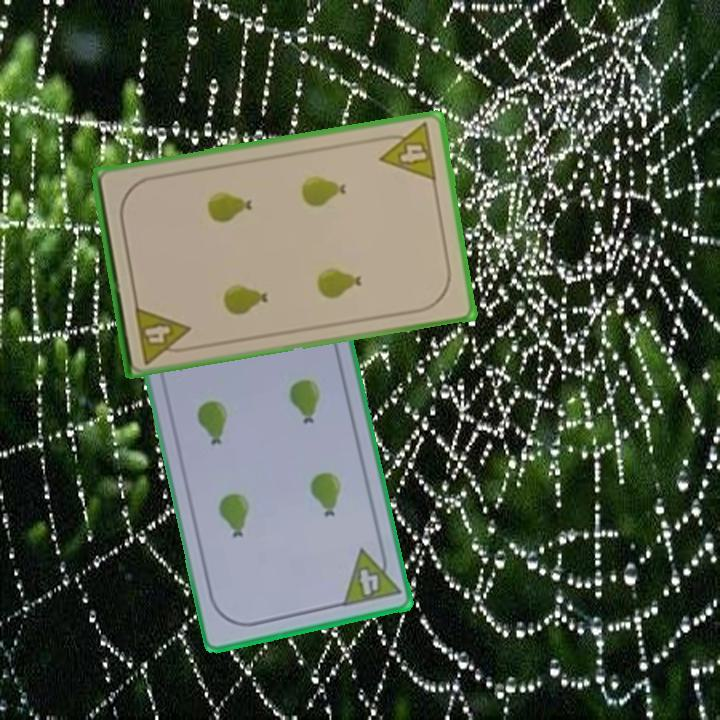4p: (339, 541, 404, 610), (373, 119, 439, 184), (131, 302, 195, 367)
